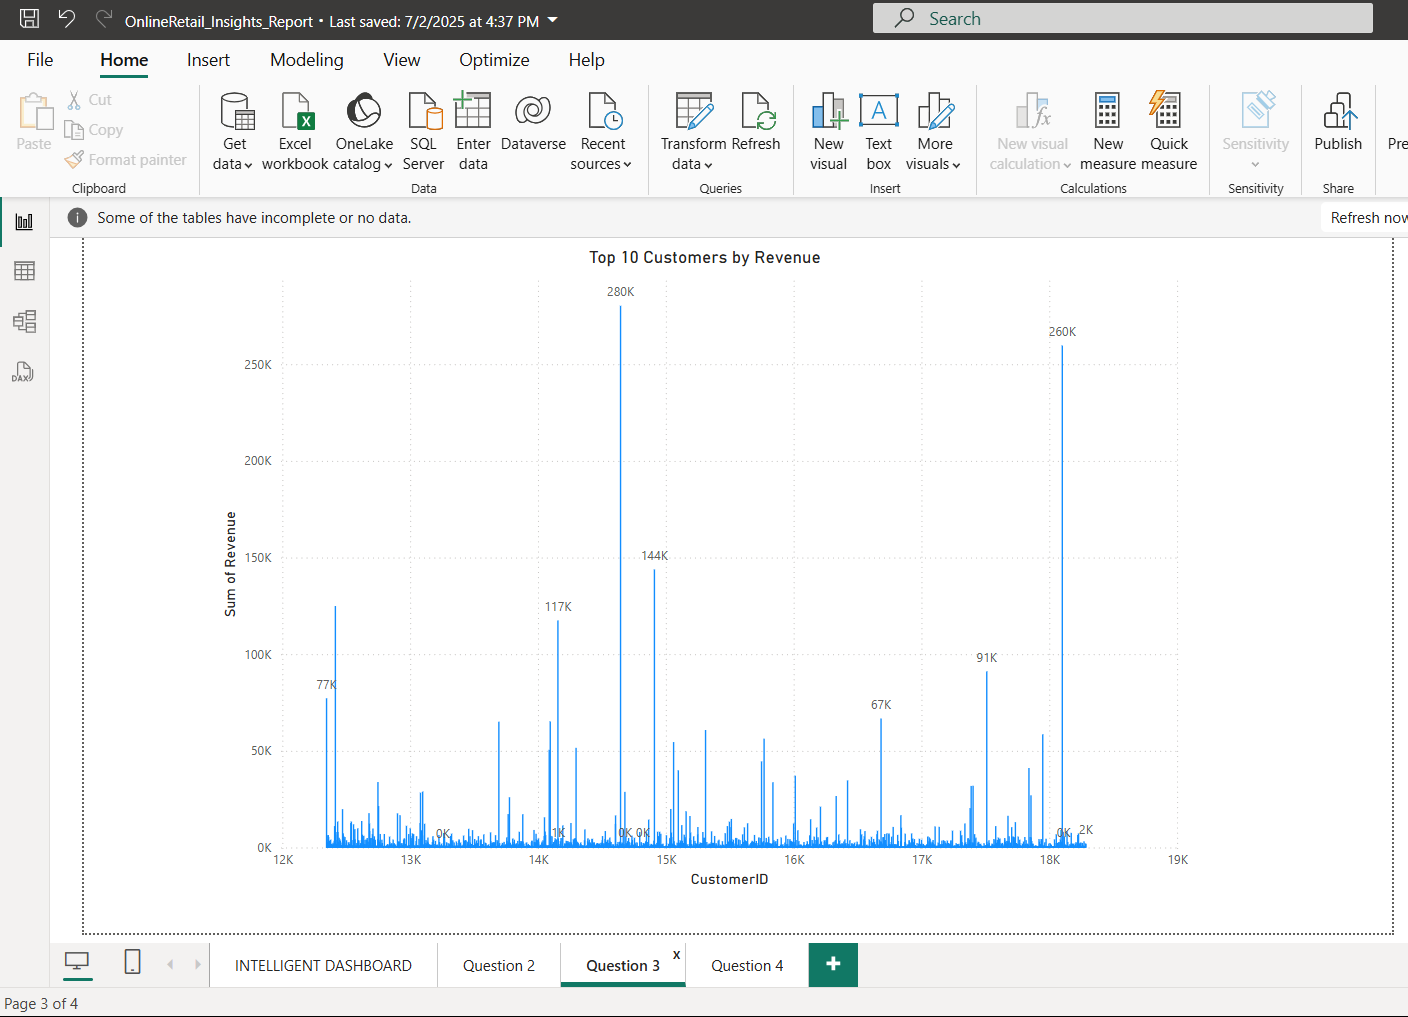

The page's visual inventory and layout, read from the dashboard file:
{"tool":"powerbi","page":{"name":"Question 3","canvas":[1280,720],"ordinal":2},"visuals":[{"type":"clusteredColumnChart","title":"Top 10 Customers by Revenue","fields":{"Category":["Online Retail.CustomerID"],"Y":["Sum(Online Retail.Revenue)"]},"box":[130,48.6,955.7,631.4],"z":0}]}

Visuals, with their boxes on the page's 1280x720 design canvas (x1, y1, x2, y2). These are canvas units, not pixel positions in the 1408x1017 screenshot, which may show the page scaled, cropped or inside an application window:
"Top 10 Customers by Revenue" clusteredColumnChart: detection(130, 49, 1086, 680)
